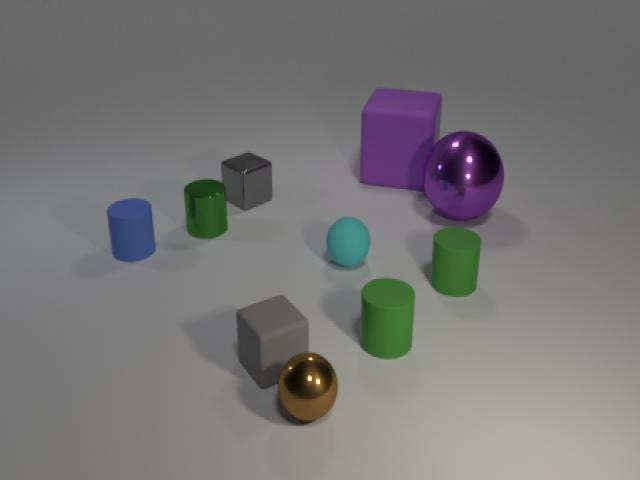cylinder: (355, 274, 420, 364), (423, 222, 484, 299), (101, 191, 159, 266), (179, 172, 230, 244)
round ball: (418, 126, 508, 222), (275, 345, 340, 428), (322, 210, 374, 271)
